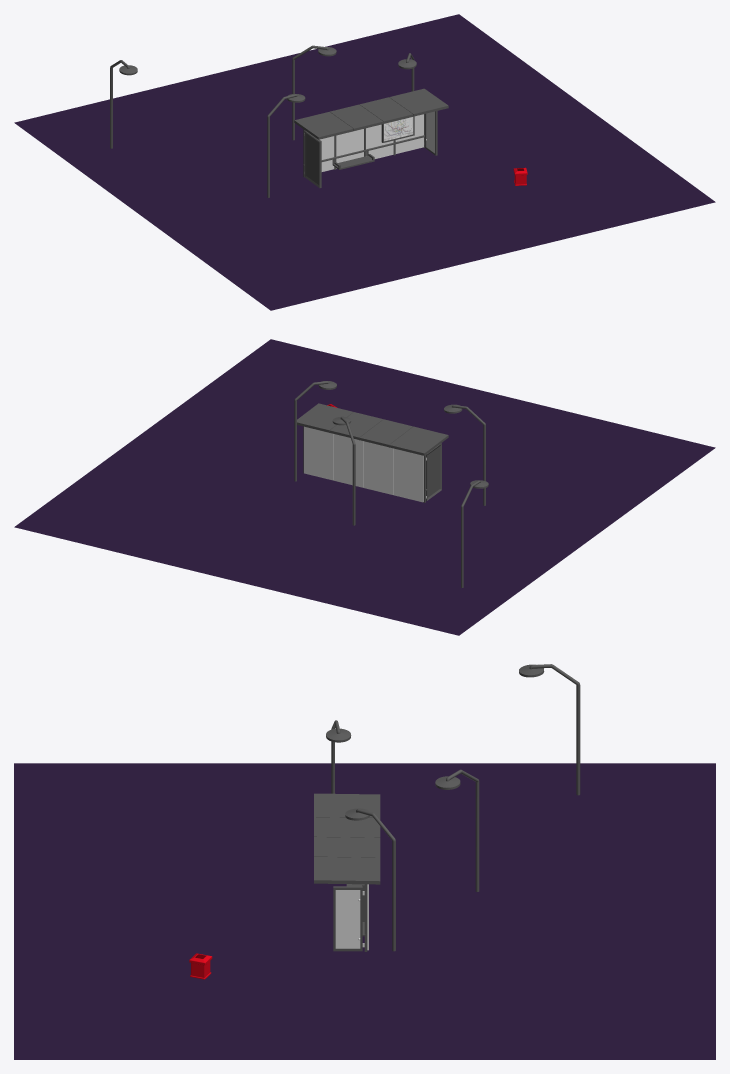
The picture shows the model from 3 angles, top to bottom: view 1: azimuth 30°, elevation 25°; view 2: azimuth 150°, elevation 25°; view 3: azimuth 270°, elevation 25°; orthographic projection. The views are drawn at different scales.
Visible parts, largest first — view 1: Cube.017, Cube.002, Cube.001, Cylinder, Cube.008, hvv_usar-plan-1080x675; view 2: Cube.017, Cube.001, Cube.002, Cylinder, Cube.008; view 3: Cube.017, Cube.002, Cylinder, Cube.010.
Boxes of the visible parts, bbox=[...] form: Cube.017: bbox=[14, 14, 715, 310]; Cube.002: bbox=[294, 88, 448, 139]; Cube.001: bbox=[320, 114, 423, 171]; Cylinder: bbox=[110, 45, 416, 197]; Cube.008: bbox=[304, 130, 321, 187]; hvv_usar-plan-1080x675: bbox=[384, 117, 413, 141]; Cube.017: bbox=[14, 339, 715, 635]; Cube.001: bbox=[304, 426, 423, 502]; Cube.002: bbox=[297, 403, 448, 455]; Cylinder: bbox=[294, 381, 488, 587]; Cube.008: bbox=[426, 443, 441, 500]; Cube.017: bbox=[14, 763, 715, 1059]; Cube.002: bbox=[314, 793, 380, 884]; Cylinder: bbox=[326, 664, 580, 951]; Cube.010: bbox=[335, 890, 360, 948].
Size of the model in its own units: 29.95 by 6.22 by 29.95.
Materials: 9 (1 with a texture image).
